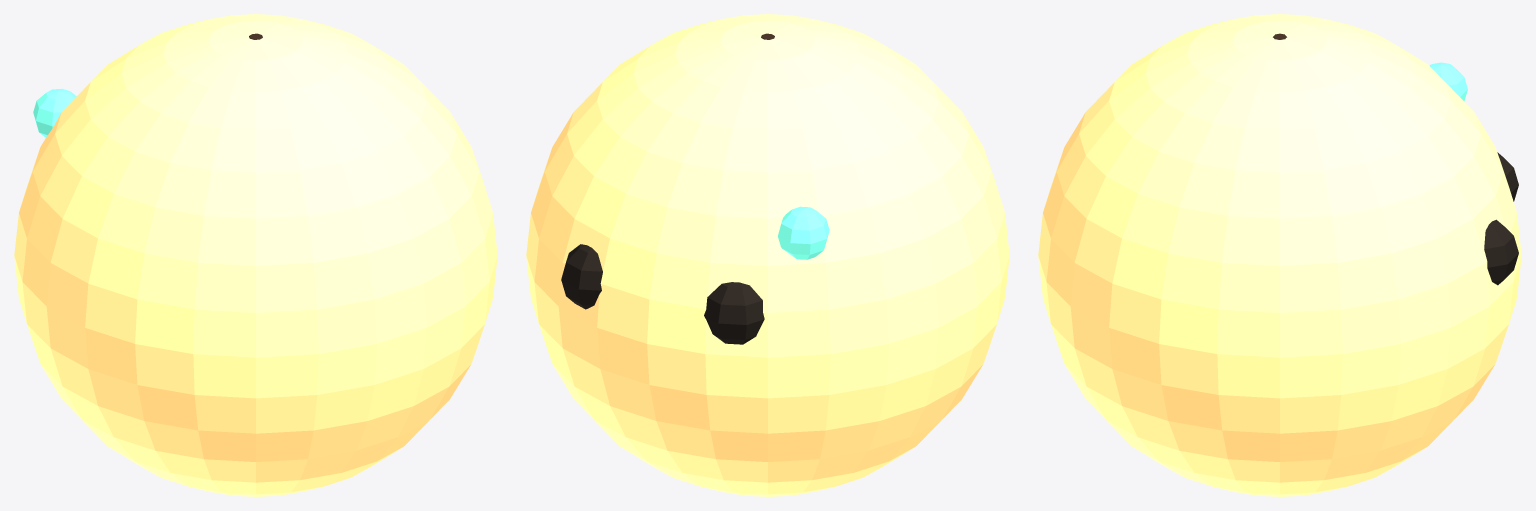
File: npc_bac.glb
3 views of the same model, side by side, from view 1: azimuth 30°, elevation 25°; view 2: azimuth 150°, elevation 25°; view 3: azimuth 270°, elevation 25° (orthographic).
Parts seen in each view (by area): view 1: NPC_Bac; view 2: NPC_Bac; view 3: NPC_Bac.
Boxes of the visible parts, bbox=[...] form: NPC_Bac: bbox=[14, 14, 497, 496]; NPC_Bac: bbox=[526, 14, 1009, 496]; NPC_Bac: bbox=[1038, 14, 1521, 496].
Size of the model in its own units: 0.36 by 0.36 by 0.36.
